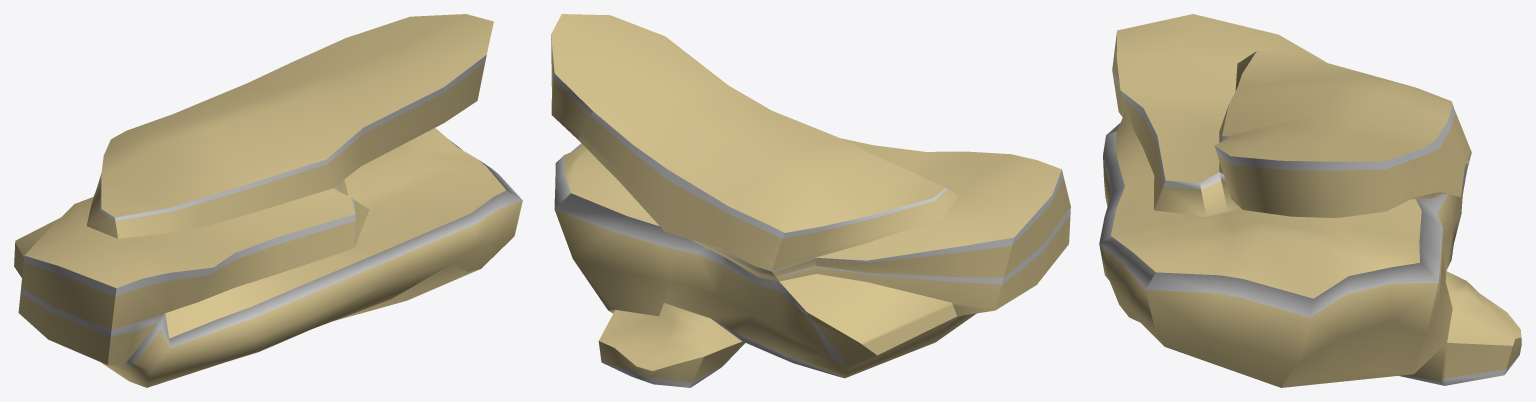
File: rocasmejoradas.fbx
3 renders of one model, left to right at view 1: azimuth 30°, elevation 25°; view 2: azimuth 150°, elevation 25°; view 3: azimuth 270°, elevation 25°, orthographic. The views are drawn at different scales.
Visible parts, largest first — view 1: Roca2; view 2: Roca2; view 3: Roca2.
Boxes of the visible parts, x1=… form: Roca2: x1=14, y1=14, x2=522, y2=387; Roca2: x1=551, y1=14, x2=1070, y2=387; Roca2: x1=1099, y1=14, x2=1521, y2=387.
Size of the model in its own units: 7.62 by 4.12 by 5.19.
